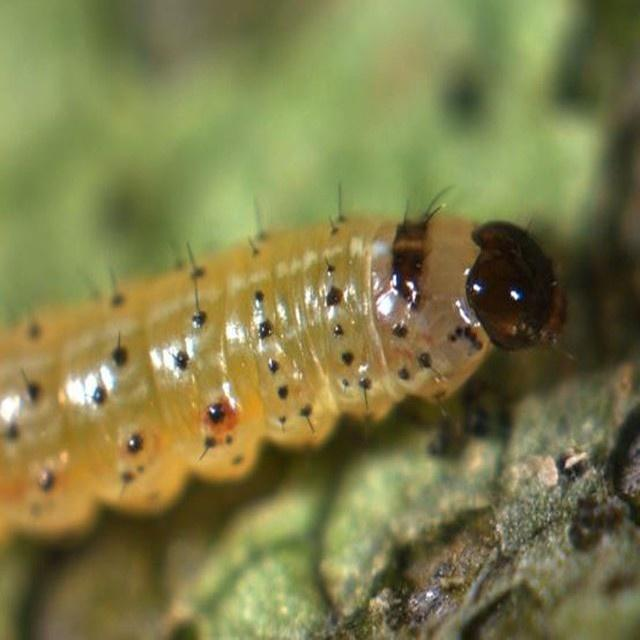Plaga: (1, 201, 577, 561)
